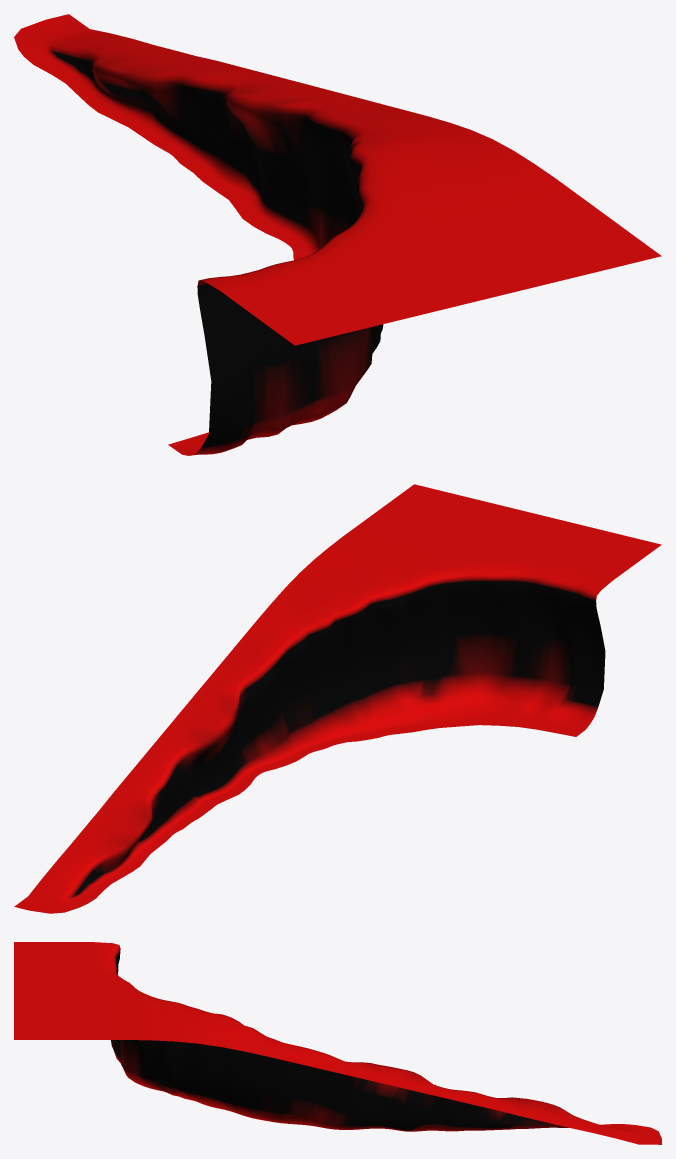
The model's file is ClimbCliff02C 1M Foreground.fbx.
The picture shows the model from 3 angles, top to bottom: view 1: azimuth 30°, elevation 25°; view 2: azimuth 150°, elevation 25°; view 3: azimuth 270°, elevation 25°; orthographic projection. The views are drawn at different scales.
Parts seen in each view (by area): view 1: ClimbCliff02C 1M Foreground; view 2: ClimbCliff02C 1M Foreground; view 3: ClimbCliff02C 1M Foreground.
Part boxes in pixels (x1,y1,x2,y2): ClimbCliff02C 1M Foreground: (14,14,661,455); ClimbCliff02C 1M Foreground: (14,484,661,913); ClimbCliff02C 1M Foreground: (14,942,661,1144).
Size of the model in its own units: 2 by 1 by 5.6.
